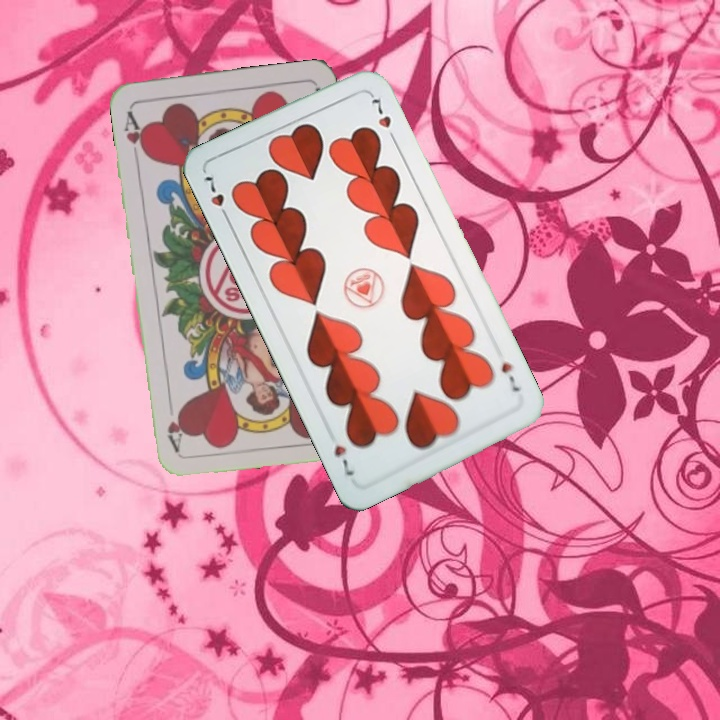H7: (197, 169, 232, 225), (497, 358, 523, 394)
HA: (120, 107, 149, 164)
